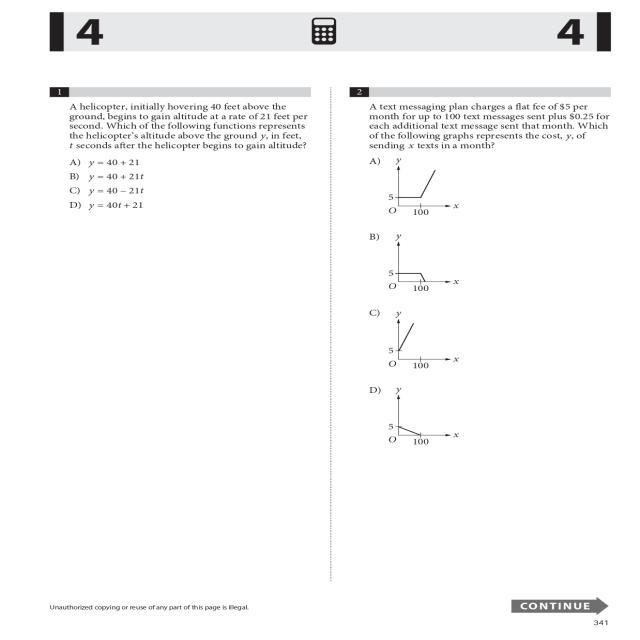Answer_Block: (338, 154, 618, 462), (41, 154, 322, 224)
Question_Answer_Block: (338, 83, 618, 462), (41, 82, 322, 224)
Question_Block: (41, 82, 322, 153), (338, 82, 618, 152)
Question_Paper_Area: (41, 82, 322, 585), (338, 83, 618, 584)
